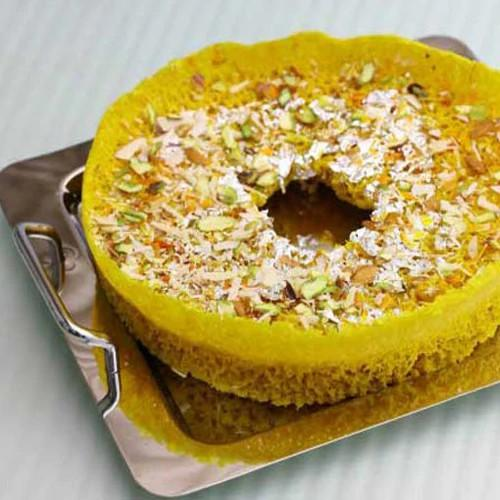Ghevar: (80, 31, 500, 410)
